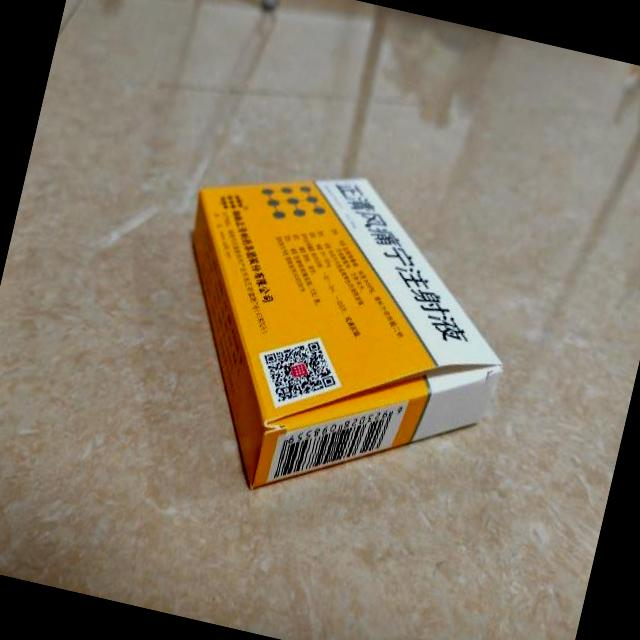box: (136, 139, 538, 542)
